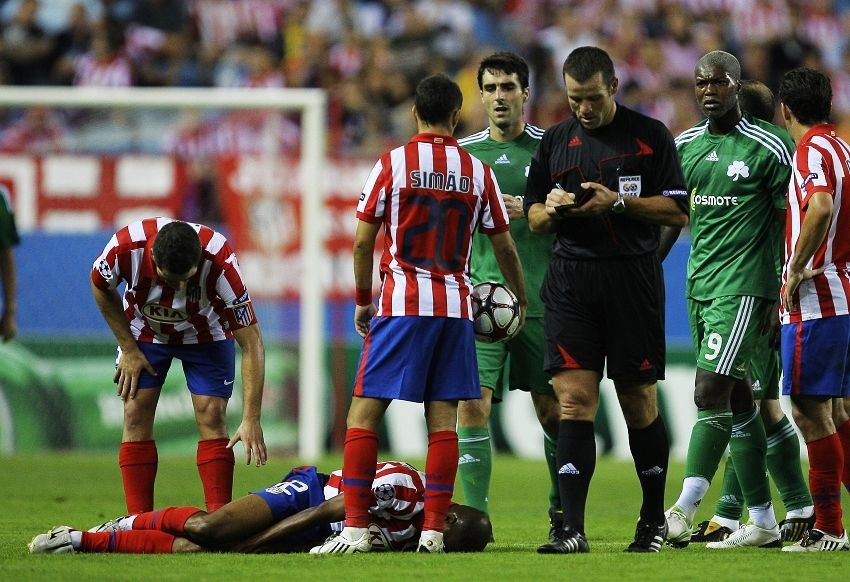falling: (20, 448, 490, 560)
